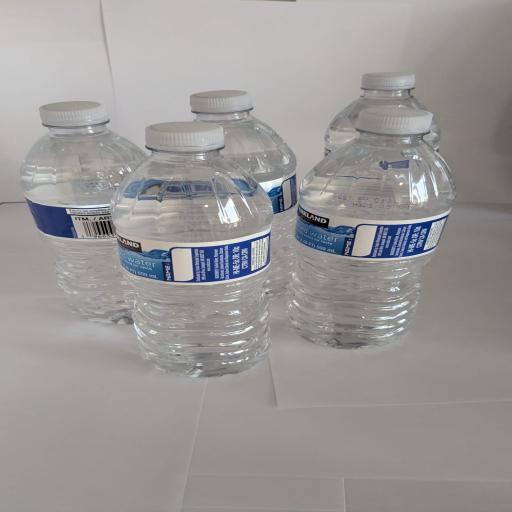waterbottle: (113, 122, 272, 376), (289, 108, 455, 348), (21, 102, 145, 323), (191, 91, 296, 298), (325, 73, 426, 154)
